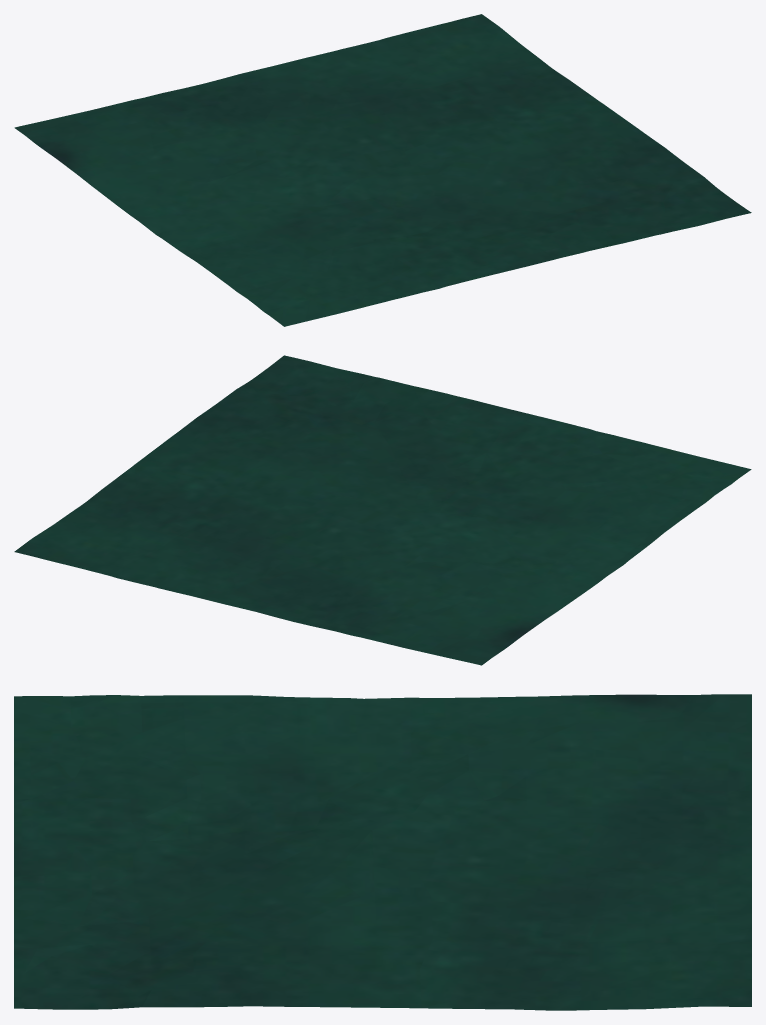
The picture shows the model from 3 angles, top to bottom: view 1: azimuth 30°, elevation 25°; view 2: azimuth 150°, elevation 25°; view 3: azimuth 270°, elevation 25°; orthographic projection. The views are drawn at different scales.
Size of the model in its own units: 52.22 by 0.534 by 52.22.
Materials: 2 (2 with a texture image).
